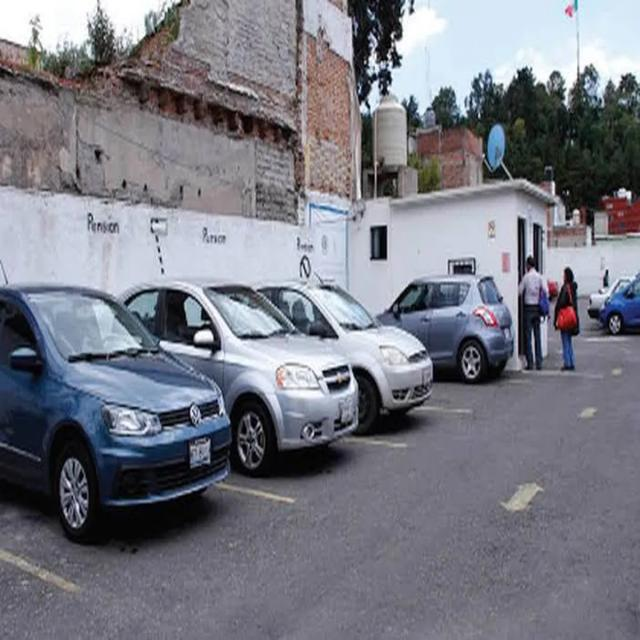ocupado: (0, 267, 508, 541)
